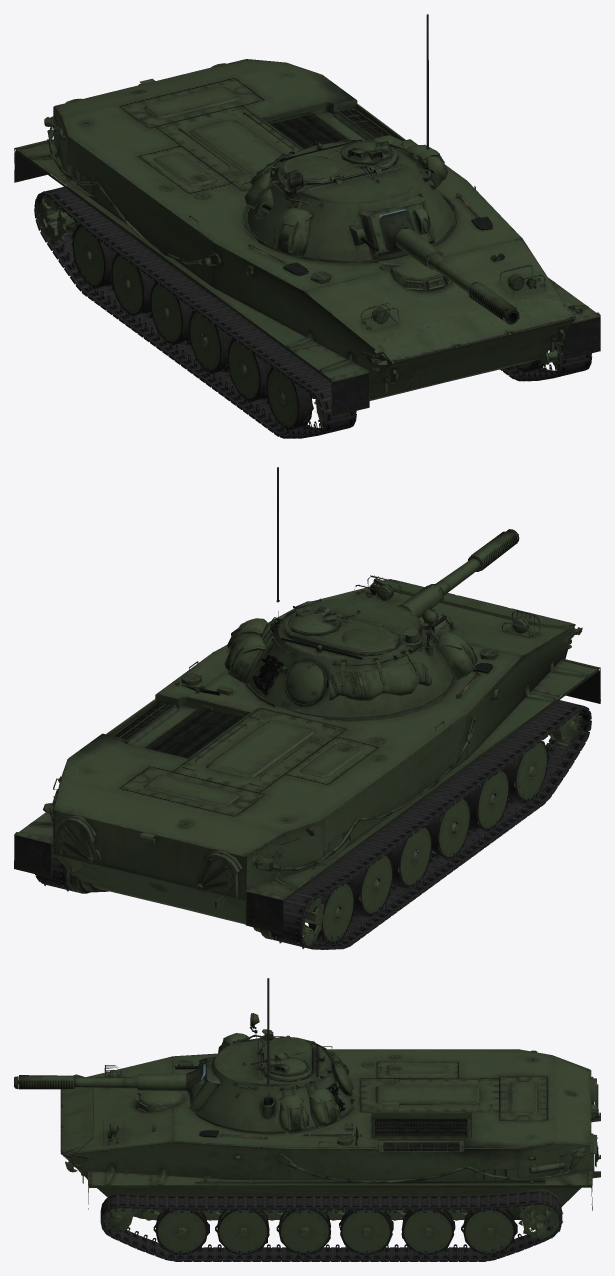
The picture shows the model from 3 angles, top to bottom: view 1: azimuth 30°, elevation 25°; view 2: azimuth 150°, elevation 25°; view 3: azimuth 270°, elevation 25°; orthographic projection. The views are drawn at different scales.
Visible parts, largest first — view 1: Object_7, Object_4, Object_8, Object_9, Object_6, Object_5, Object_2; view 2: Object_7, Object_4, Object_8, Object_9, Object_6, Object_5; view 3: Object_7, Object_9, Object_8, Object_4, Object_6, Object_5.
Part boxes in pixels (box(x1,y1,x2,y2)): Object_7: box(14, 59, 600, 416); Object_4: box(247, 139, 453, 260); Object_8: box(34, 187, 591, 438); Object_9: box(39, 190, 559, 430); Object_6: box(244, 135, 447, 257); Object_5: box(395, 228, 519, 324); Object_2: box(378, 207, 413, 250); Object_7: box(14, 575, 600, 939); Object_4: box(249, 598, 453, 717); Object_8: box(35, 700, 591, 949); Object_9: box(39, 713, 581, 948); Object_6: box(224, 617, 477, 700); Object_5: box(401, 529, 519, 618); Object_7: box(60, 1046, 600, 1220); Object_9: box(103, 1192, 563, 1255); Object_8: box(100, 1191, 562, 1261); Object_4: box(175, 1013, 354, 1131); Object_6: box(218, 1033, 349, 1133); Object_5: box(14, 1073, 186, 1090).
Size of the model in its own units: 3209 by 3701 by 7552.
Materials: 7 (7 with a texture image).
